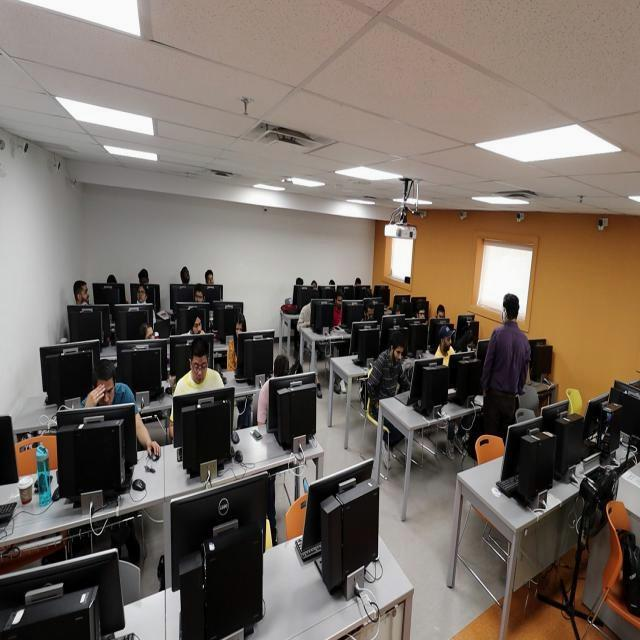Looking away: (95, 375, 116, 408), (190, 352, 210, 385), (78, 282, 90, 306), (144, 325, 156, 347), (392, 344, 404, 364), (441, 333, 452, 352), (192, 316, 202, 336), (136, 286, 147, 304), (180, 266, 190, 284), (363, 306, 375, 321), (194, 290, 204, 306), (334, 294, 343, 311), (236, 322, 243, 342), (436, 308, 445, 322), (206, 271, 213, 287)
Looking forward: (416, 308, 426, 322)
